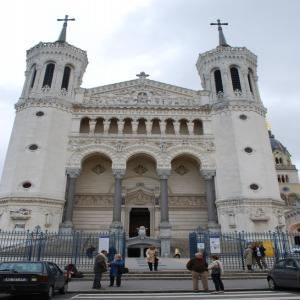Vehicle-registration-plate: (2, 278, 30, 282)
